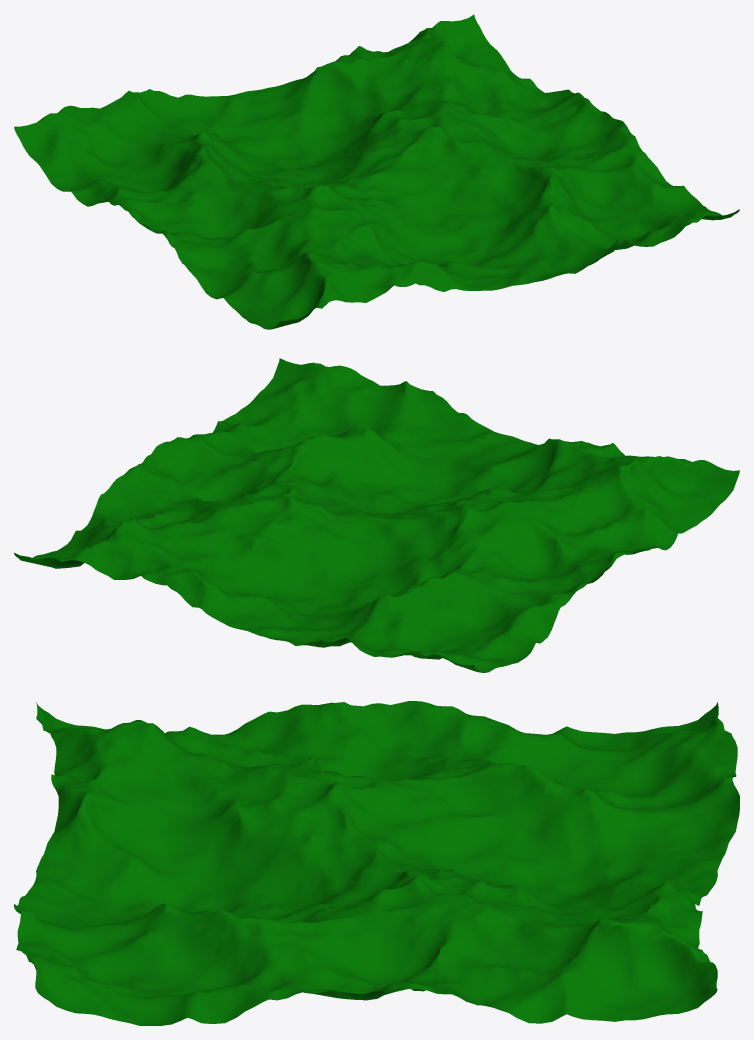
Rendered from launchpad.obj.
3 renders of one model, top to bottom at view 1: azimuth 30°, elevation 25°; view 2: azimuth 150°, elevation 25°; view 3: azimuth 270°, elevation 25°, orthographic. The views are drawn at different scales.
Parts seen in each view (by area): view 1: Plane; view 2: Plane; view 3: Plane.
Part boxes in pixels (x1,y1,x2,y2): Plane: (14,14,739,329); Plane: (14,358,739,672); Plane: (14,701,739,1025).
Bounding box in the file's own units: 10.2 × 1.28 × 10.65.
